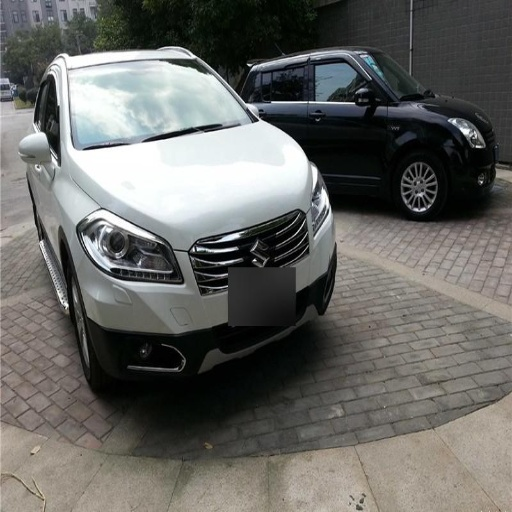front_bumper: (79, 213, 330, 381)
front_right_door: (328, 57, 387, 169), (34, 87, 68, 221)
front_right_light: (79, 210, 181, 282)
